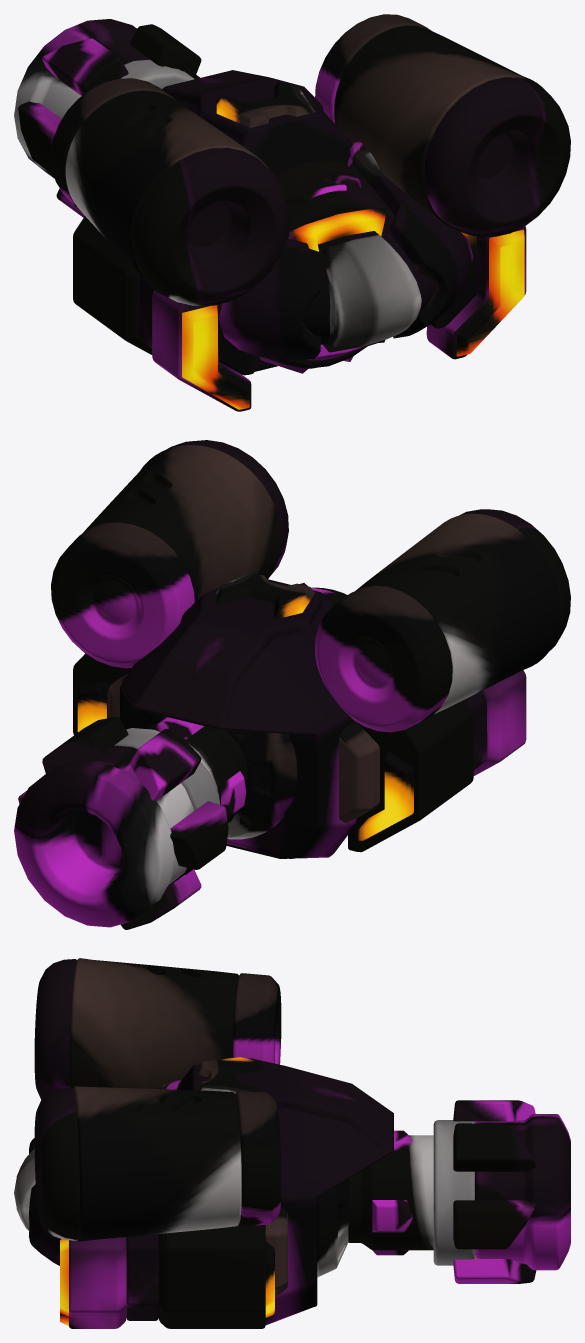
The model's file is 绿野仙踪VIP3.FBX.
The picture shows the model from 3 angles, top to bottom: view 1: azimuth 30°, elevation 25°; view 2: azimuth 150°, elevation 25°; view 3: azimuth 270°, elevation 25°; orthographic projection. The views are drawn at different scales.
Visible parts, largest first — view 1: default; view 2: default; view 3: default.
Boxes of the visible parts, bbox=[...] form: default: bbox=[14, 14, 570, 411]; default: bbox=[14, 440, 570, 929]; default: bbox=[14, 958, 570, 1328].
Size of the model in its own units: 179 by 115 by 217.
